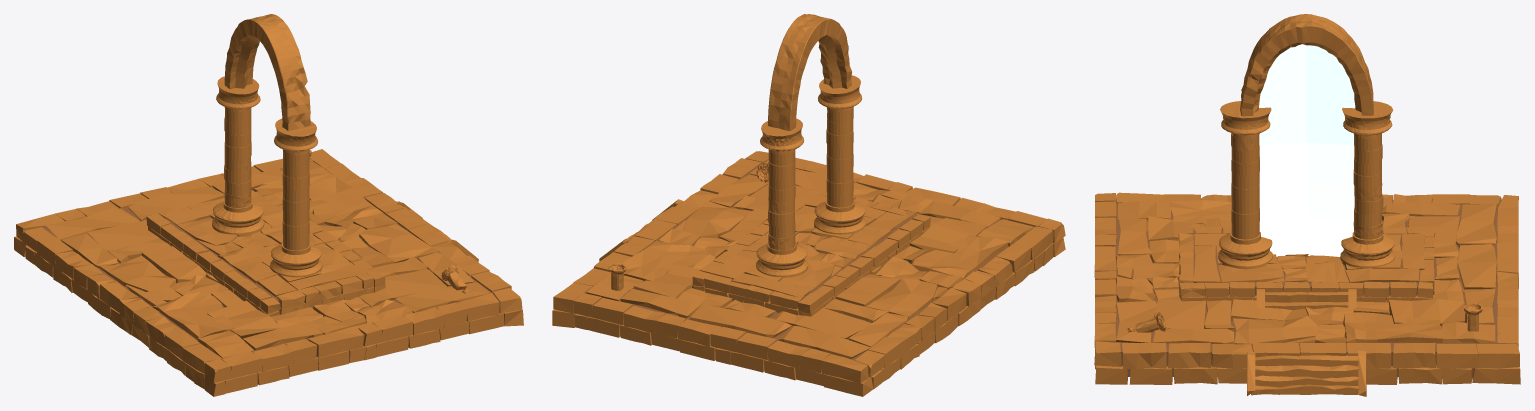
Rendered from Big Portal_GAME_READY.gltf.
3 views of the same model, side by side, from view 1: azimuth 30°, elevation 25°; view 2: azimuth 150°, elevation 25°; view 3: azimuth 270°, elevation 25° (orthographic). The views are drawn at different scales.
Parts seen in each view (by area): view 1: Cube.025, Cylinder.019, Cube.020, Cube.023, Cube.019, Cube.017, Cube.013, Cube.022, Cube.015, Cube.014, Cube; view 2: Cube.025, Cylinder.019, Cube.022, Cube.023, Cube.019, Cube.017, Cube.013, Cube.020, Cube.016, Cube.014, Cube, Cube.015; view 3: Cube.025, Portal, Cylinder.019, Cube.017, Cube.019, Cube.007, Cube.014, Cube.020, Cube.022, Cube.023, Cube, Cube.010 (+6 smaller).
Boxes of the visible parts, box(x1,y1,x2,y2) form: Cube.025: box(46, 161, 490, 358); Cylinder.019: box(212, 14, 322, 277); Cube.020: box(205, 293, 503, 396); Cube.023: box(22, 227, 222, 389); Cube.019: box(165, 195, 368, 296); Cube.017: box(309, 149, 523, 326); Cube.013: box(146, 213, 280, 316); Cube.022: box(14, 158, 313, 257); Cube.015: box(276, 273, 373, 314); Cube.014: box(256, 189, 385, 292); Cube: box(32, 161, 498, 376); Cube.025: box(586, 160, 1034, 359); Cylinder.019: box(756, 14, 866, 278); Cube.022: box(573, 293, 873, 396); Cube.023: box(854, 226, 1053, 389); Cube.019: box(711, 194, 908, 297); Cube.017: box(552, 151, 768, 327); Cube.013: box(797, 214, 930, 316); Cube.020: box(767, 157, 1065, 256); Cube.016: box(704, 274, 804, 315); Cube.014: box(692, 189, 823, 291); Cube: box(575, 162, 1020, 360); Cube.015: box(819, 190, 917, 218); Cube.025: box(1116, 200, 1496, 344); Portal: box(1259, 44, 1355, 256); Cylinder.019: box(1218, 14, 1395, 269); Cube.017: box(1094, 341, 1520, 384); Cube.019: box(1193, 233, 1425, 282); Cube.007: box(1247, 351, 1366, 396); Cube.014: box(1179, 282, 1433, 304); Cube.020: box(1094, 193, 1116, 369); Cube.022: box(1497, 195, 1518, 347); Cube.023: box(1116, 192, 1501, 204); Cube: box(1115, 197, 1500, 376); Cube.010: box(1256, 289, 1356, 310).
Bounding box in the file's own units: 14.77 × 11.31 × 15.34.
